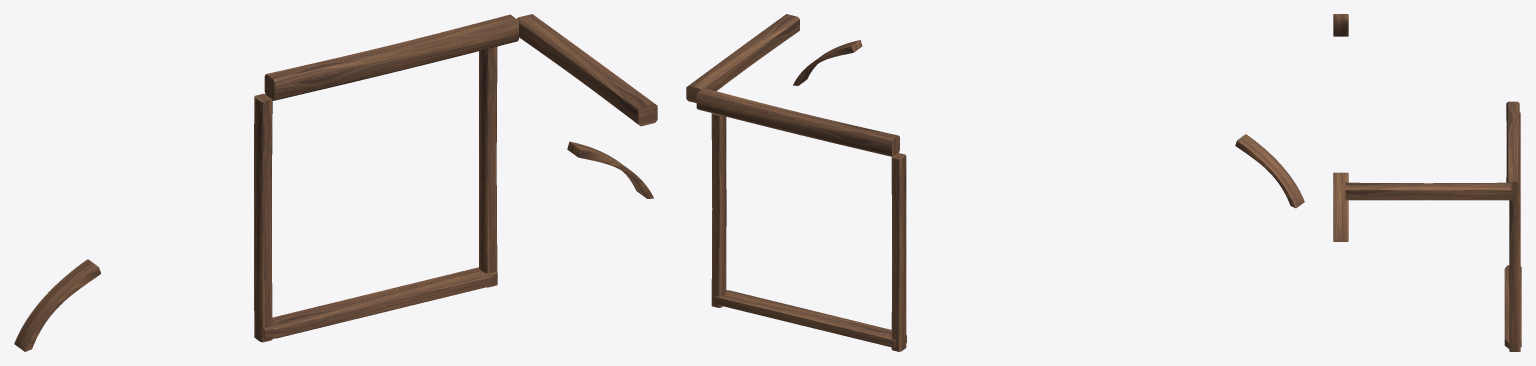
The model's file is CM_SW12_FittedJoinery.fbx.
3 renders of one model, left to right at view 1: azimuth 30°, elevation 25°; view 2: azimuth 150°, elevation 25°; view 3: azimuth 270°, elevation 25°, orthographic. The views are drawn at different scales.
Parts seen in each view (by area): view 1: CM_SW12_FittedJoinery; view 2: CM_SW12_FittedJoinery; view 3: CM_SW12_FittedJoinery.
Boxes of the visible parts, box(x1,y1,x2,y2) form: CM_SW12_FittedJoinery: box(14, 14, 657, 351); CM_SW12_FittedJoinery: box(686, 14, 1304, 351); CM_SW12_FittedJoinery: box(1333, 14, 1521, 351).
Bounding box in the file's own units: 5.28 × 2.06 × 1.99.
